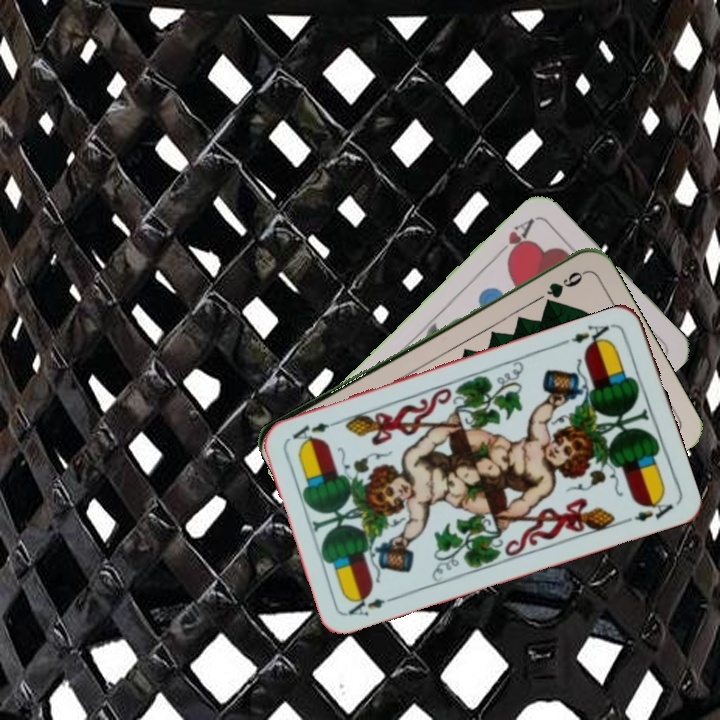EA: (559, 320, 617, 352), (344, 589, 401, 619)
G9: (542, 266, 588, 301)
HA: (492, 214, 540, 263)
